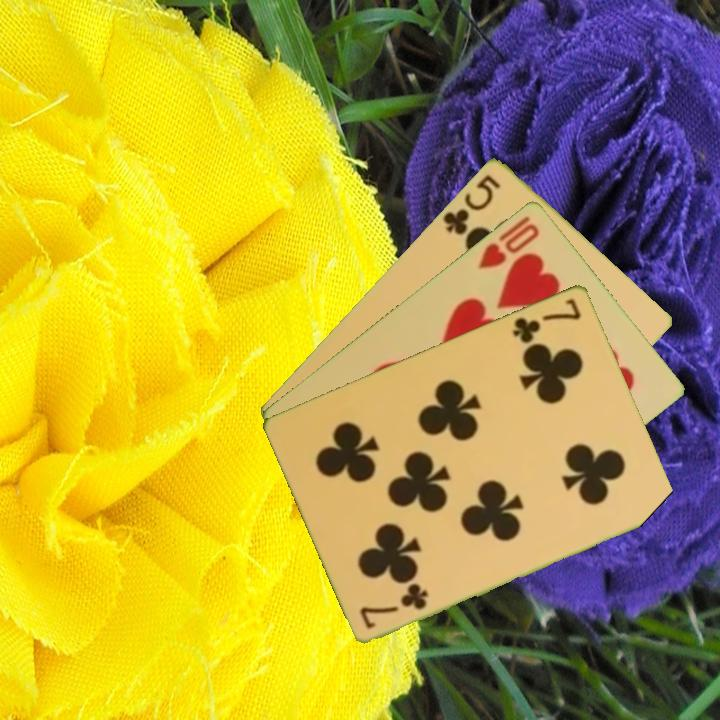10h: (474, 211, 543, 272)
5c: (439, 170, 503, 240)
7c: (356, 580, 432, 632), (509, 294, 584, 346)
